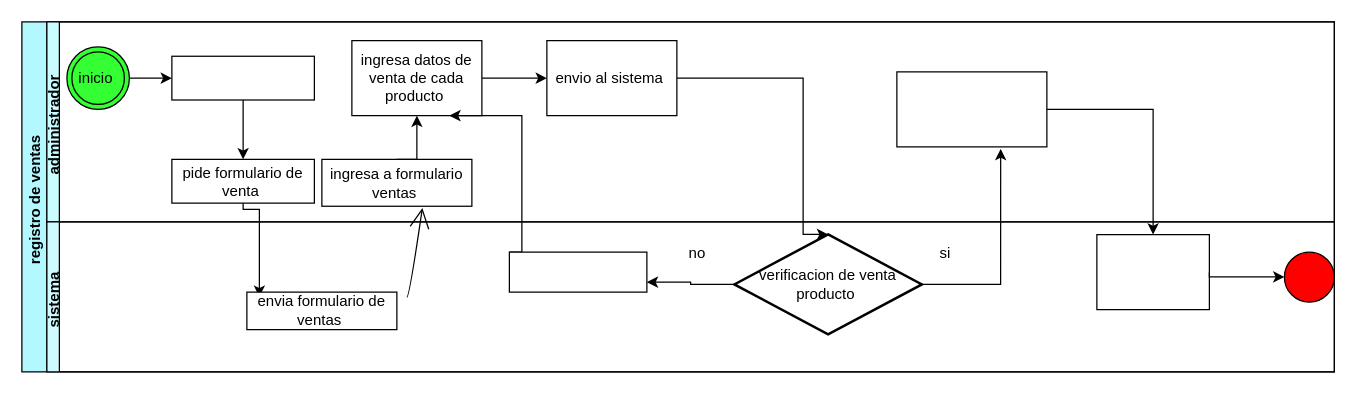
Some shapes in this 1356 by 394 pixel diagram are drawn without their labels. The centre of each missing label's shape, as x and y in pixels:
confirmacion venta: (971,109)
el administrador ingresa al sistema: (242,77)
error de venta: (577,271)
fin: (1308,276)
guardar informacion ventas: (1152,271)
